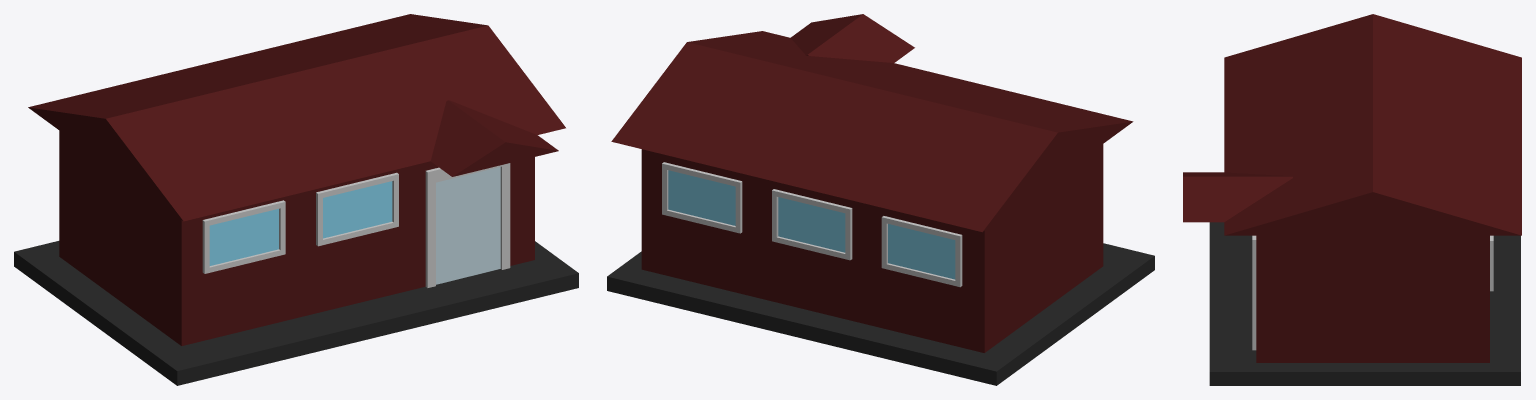
The model's file is CasaGrandeCiudad.FBX.
3 renders of one model, left to right at view 1: azimuth 30°, elevation 25°; view 2: azimuth 150°, elevation 25°; view 3: azimuth 270°, elevation 25°, orthographic. The views are drawn at different scales.
Visible parts, largest first — view 1: CasaGrandeCiudad; view 2: CasaGrandeCiudad; view 3: CasaGrandeCiudad.
Part boxes in pixels (bbox=[...]): CasaGrandeCiudad: bbox=[14, 14, 578, 385]; CasaGrandeCiudad: bbox=[607, 14, 1154, 385]; CasaGrandeCiudad: bbox=[1183, 14, 1521, 385].
Bounding box in the file's own units: 1684 × 805 × 1289.
